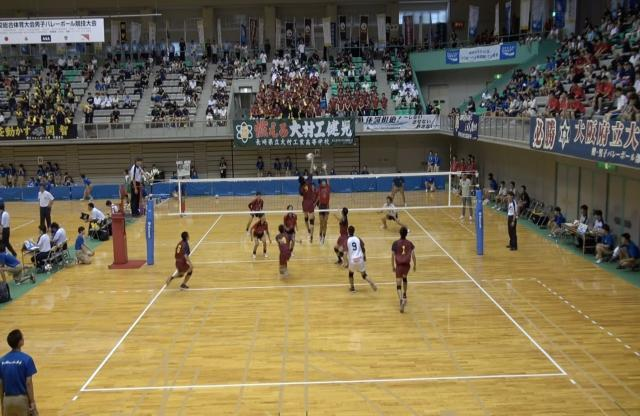spike: (295, 150, 320, 245)
